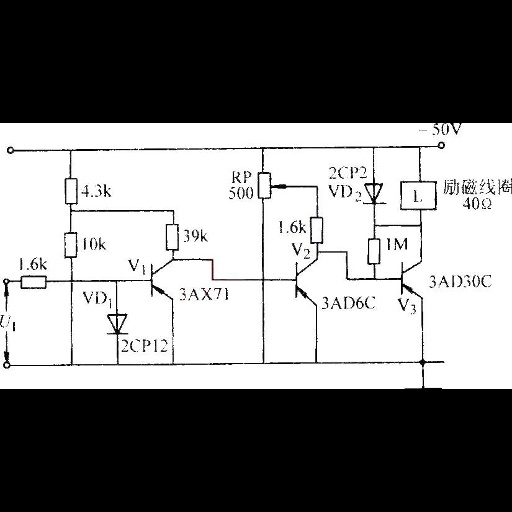firstresistance: (360, 235, 382, 268), (305, 214, 328, 245), (161, 222, 182, 252), (60, 230, 79, 259), (17, 274, 51, 290), (63, 174, 79, 207)
pnp: (284, 259, 321, 308), (144, 255, 178, 307), (393, 255, 425, 297)
seconddiode: (101, 310, 130, 336), (364, 180, 387, 207)
